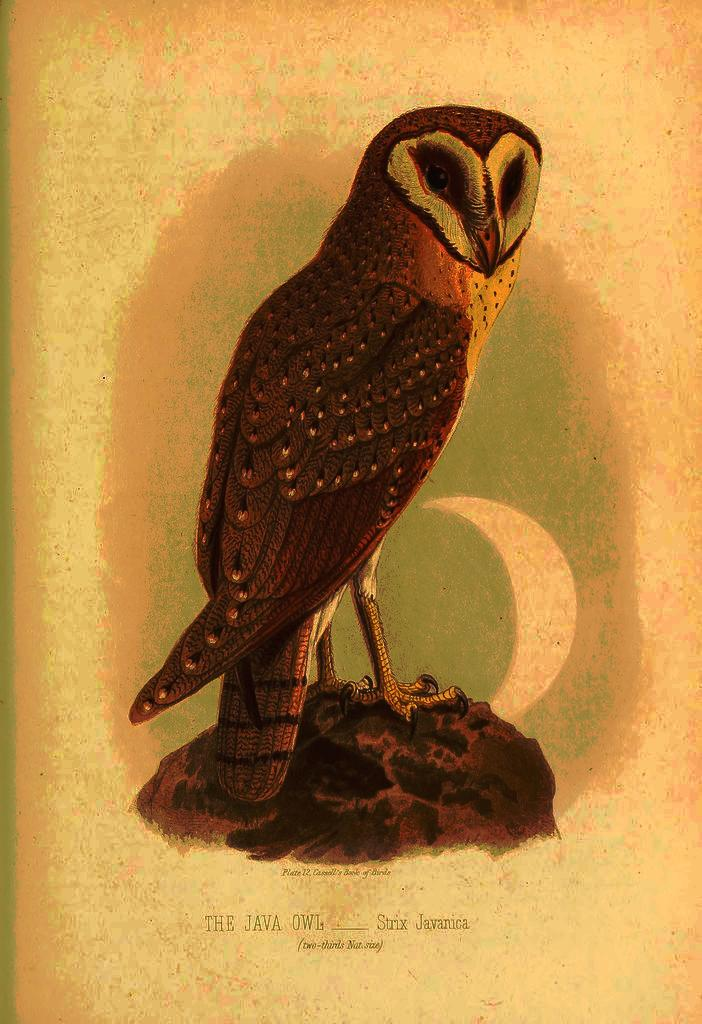Owl: (122, 106, 544, 810)
